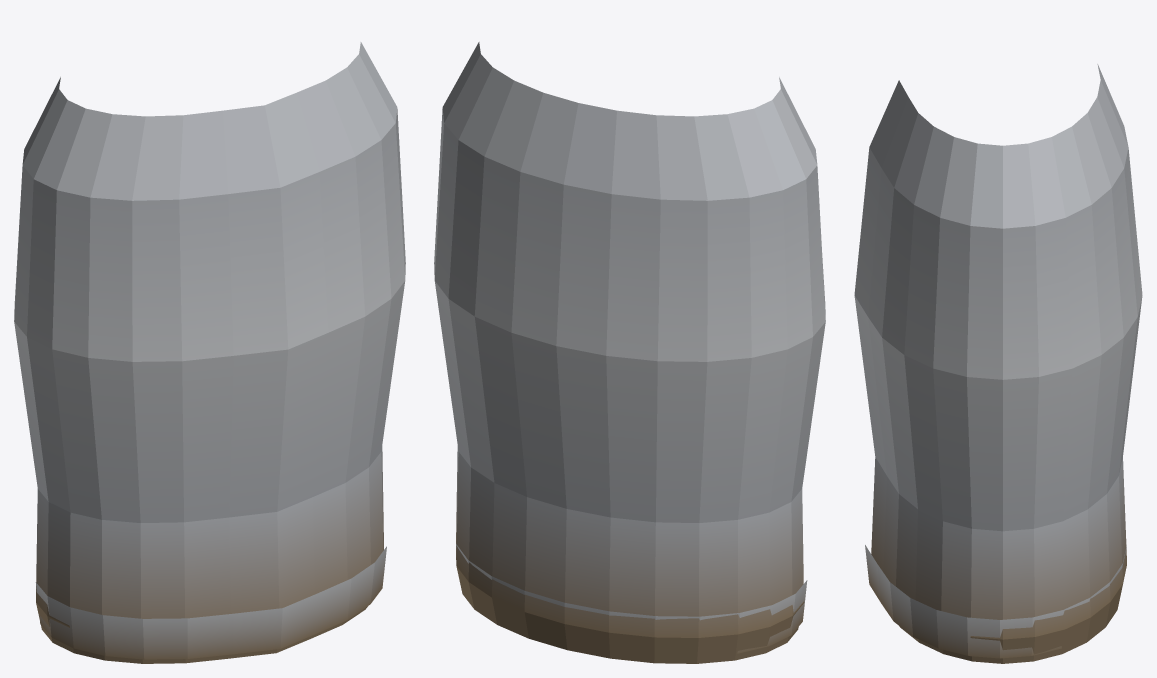
Rendered from steel-cuirass.glb.
3 renders of one model, left to right at view 1: azimuth 30°, elevation 25°; view 2: azimuth 150°, elevation 25°; view 3: azimuth 270°, elevation 25°, orthographic. The views are drawn at different scales.
Parts seen in each view (by area): view 1: geometry_0; view 2: geometry_0; view 3: geometry_0.
Boxes of the visible parts, x1,y1,x2,y2 form: geometry_0: (14,42,405,663); geometry_0: (434,42,825,663); geometry_0: (854,64,1142,663).
Bounding box in the file's own units: 0.27 × 0.38 × 0.194.
